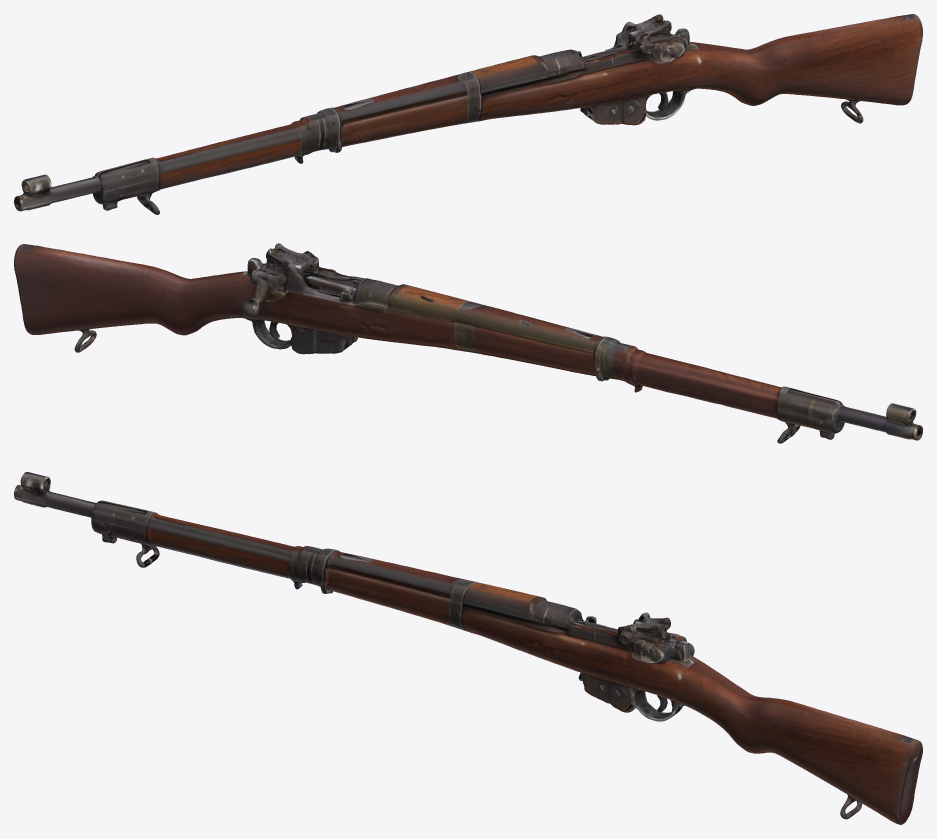
The model's file is Bolt_Action_Rifle_no__1030143750_texture.fbx.
3 renders of one model, top to bottom at view 1: azimuth 30°, elevation 25°; view 2: azimuth 150°, elevation 25°; view 3: azimuth 330°, elevation 25°, orthographic.
Parts seen in each view (by area): view 1: Mesh_0.010; view 2: Mesh_0.010; view 3: Mesh_0.010.
Part boxes in pixels (x1,y1,x2,y2): Mesh_0.010: (14,14,922,214); Mesh_0.010: (14,243,922,443); Mesh_0.010: (14,472,922,824).
Bounding box in the file's own units: 190 × 29.96 × 14.35.
Materials: 1 (1 with a texture image).
